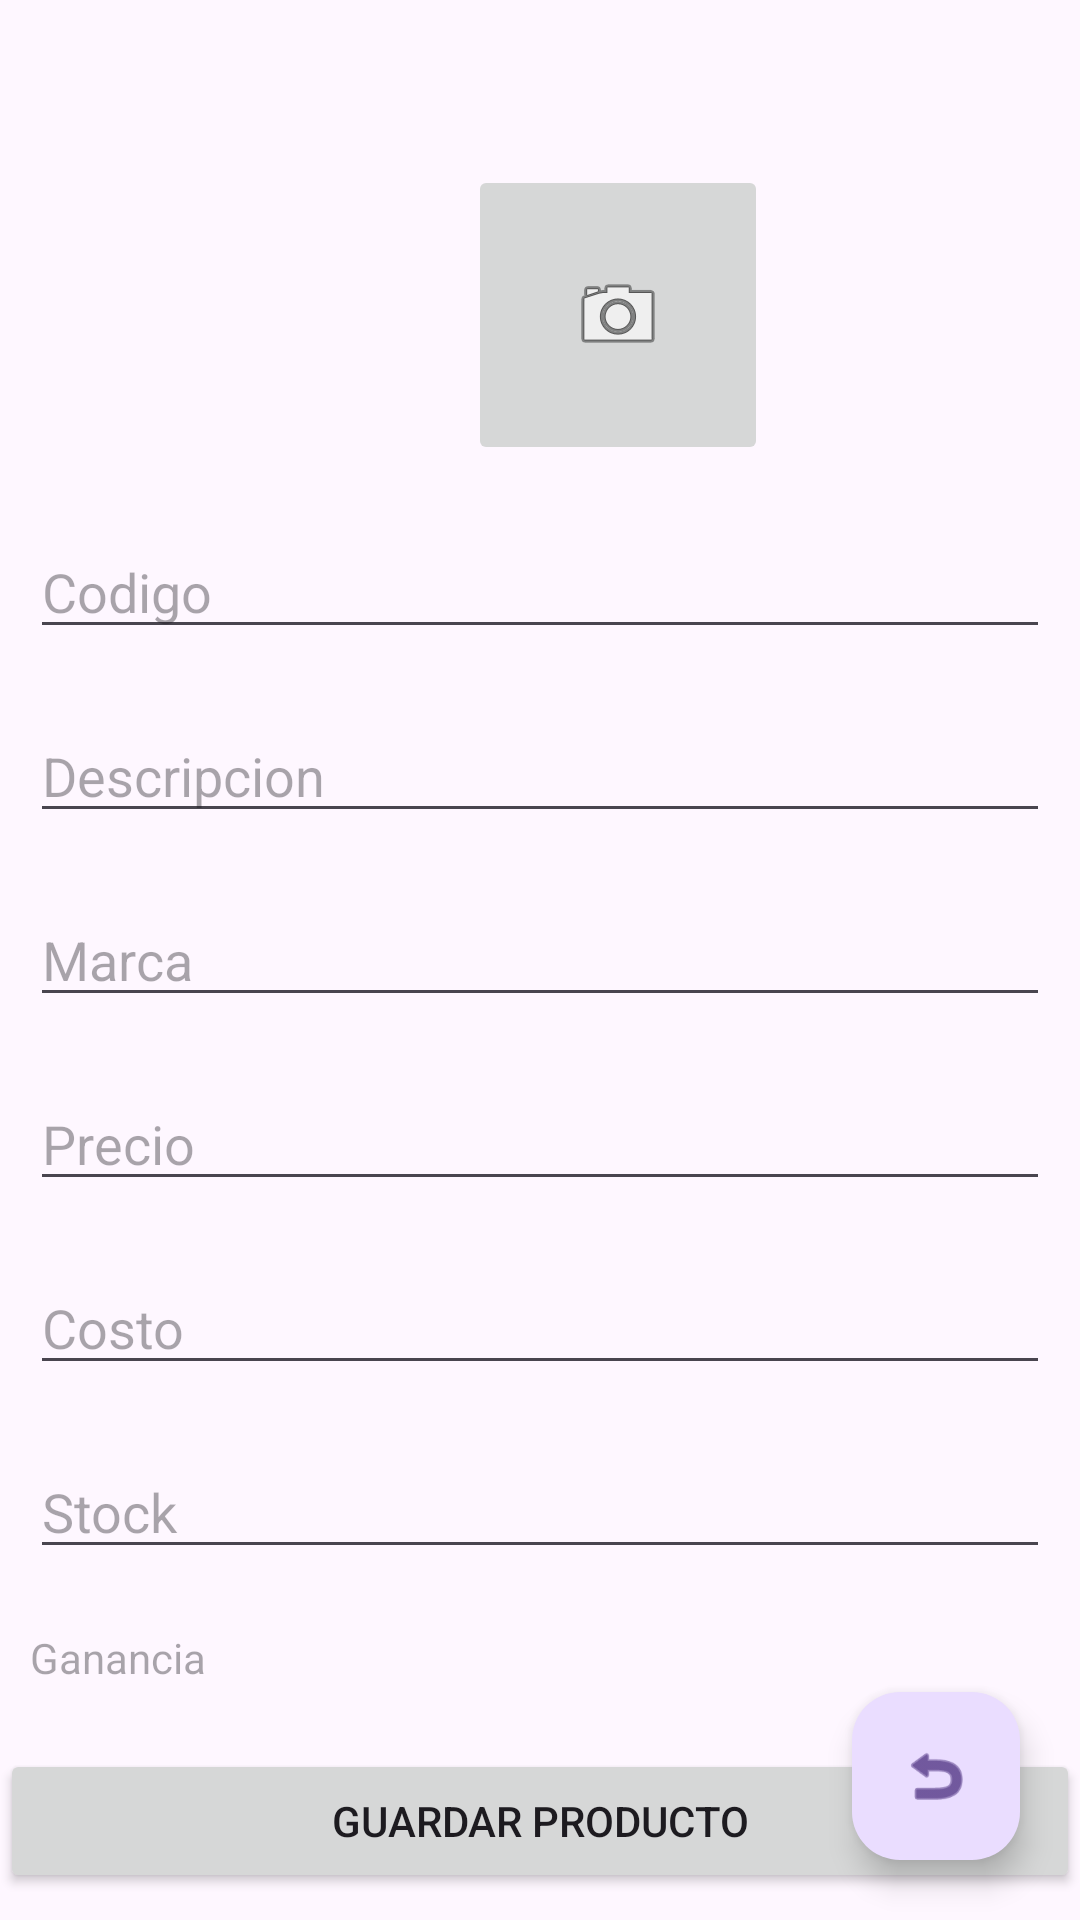

Screen size 1080x1920. Icon name, then its center in pixels as (x,y):
camera: (618,315)
revert: (936,1776)
